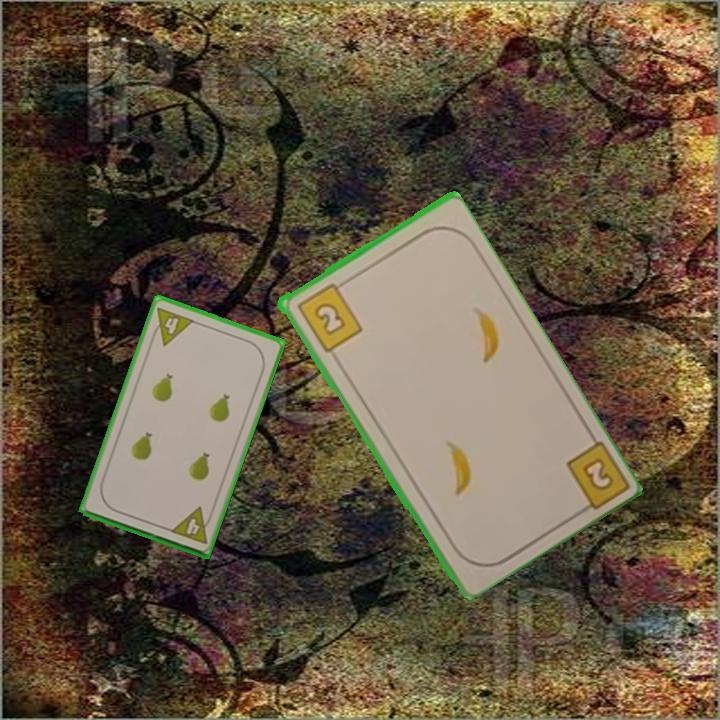2b: (561, 436, 629, 519), (293, 277, 365, 355)
4p: (147, 303, 197, 349), (166, 503, 216, 547)
